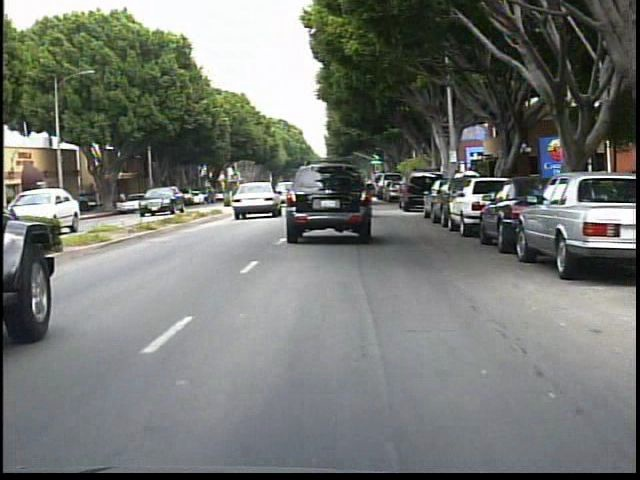person: (462, 167, 479, 205), (449, 167, 464, 203), (117, 188, 132, 213)
